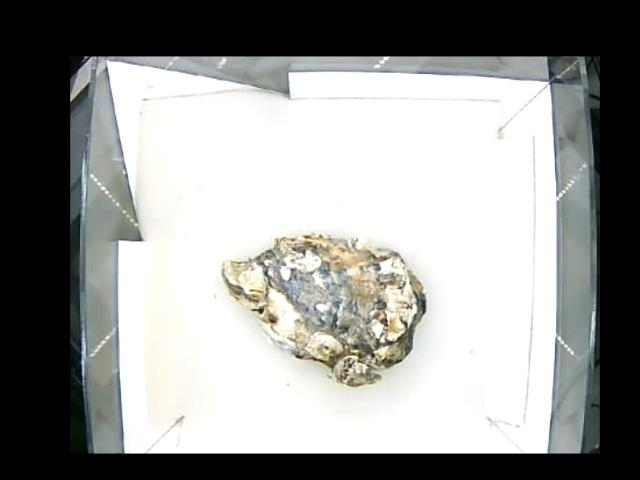Shell: (223, 235, 426, 387)
